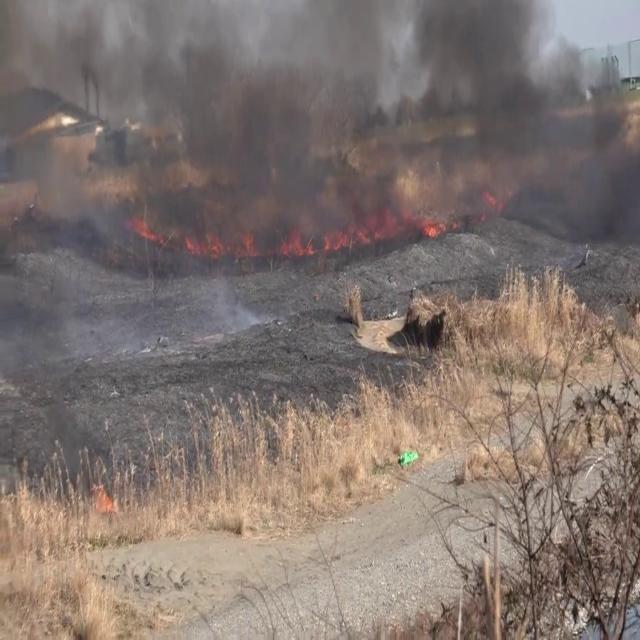Smoke: (4, 0, 628, 241)
